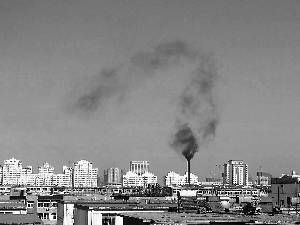dust: (169, 120, 213, 163)
